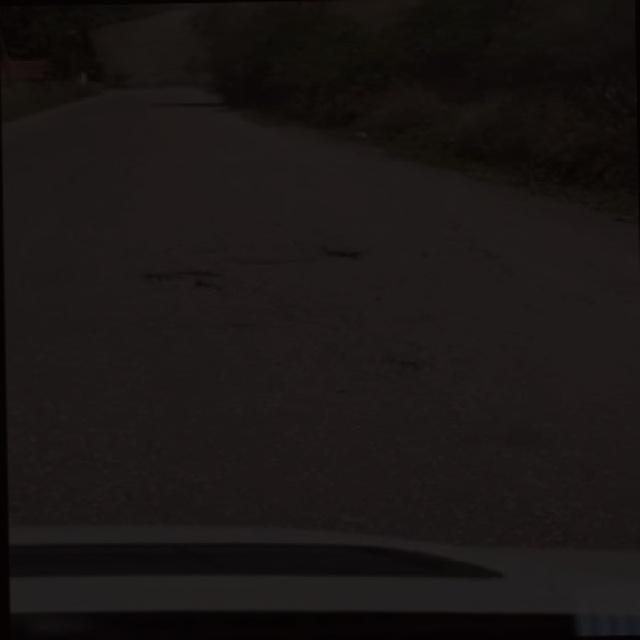Pothole: (138, 264, 228, 302), (321, 240, 363, 271)
